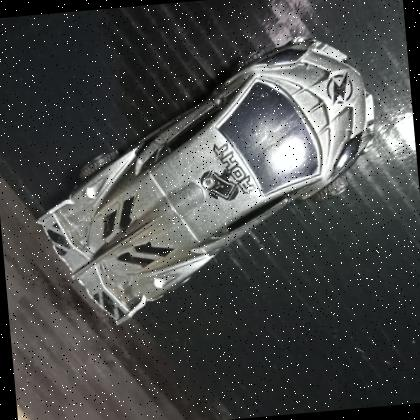Car: (17, 25, 398, 337)
